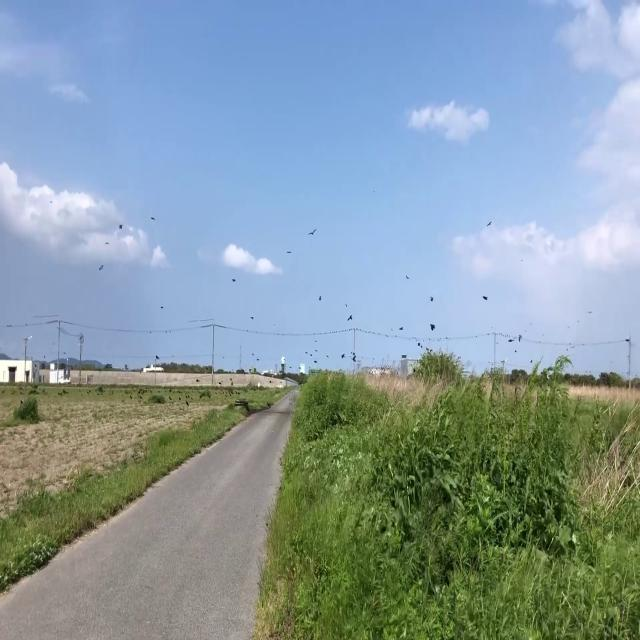bird: (509, 334, 517, 347), (483, 290, 488, 304), (151, 210, 155, 226), (348, 311, 353, 323), (186, 392, 188, 408)
